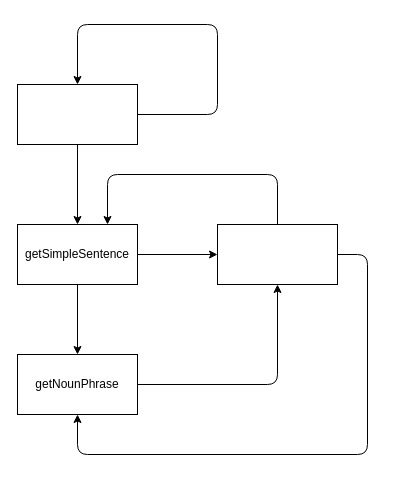
Some shapes in this 393 by 480 pixel diagram are drawn without their labels. Here are the shapes that lost their labels. From the top down, the centre of each, then its label:
point 77,114: getSentence
point 277,254: getVerbPhrase
